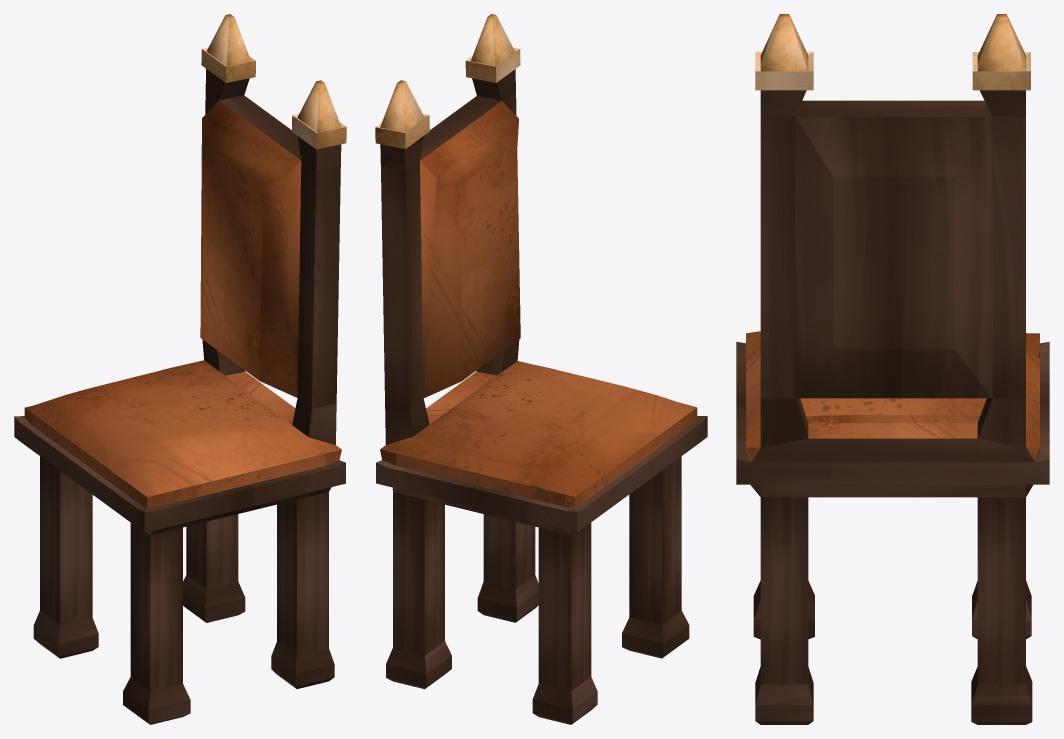
File: Chair.fbx
3 views of the same model, side by side, from view 1: azimuth 30°, elevation 25°; view 2: azimuth 150°, elevation 25°; view 3: azimuth 270°, elevation 25° (orthographic). The views are drawn at different scales.
Parts seen in each view (by area): view 1: Chair; view 2: Chair; view 3: Chair.
Boxes of the visible parts, left/top/right/bottom form: Chair: left=14, top=14, right=346, bottom=724; Chair: left=375, top=14, right=707, bottom=724; Chair: left=736, top=14, right=1049, bottom=724.
Size of the model in its own units: 85.08 by 226 by 90.21.
